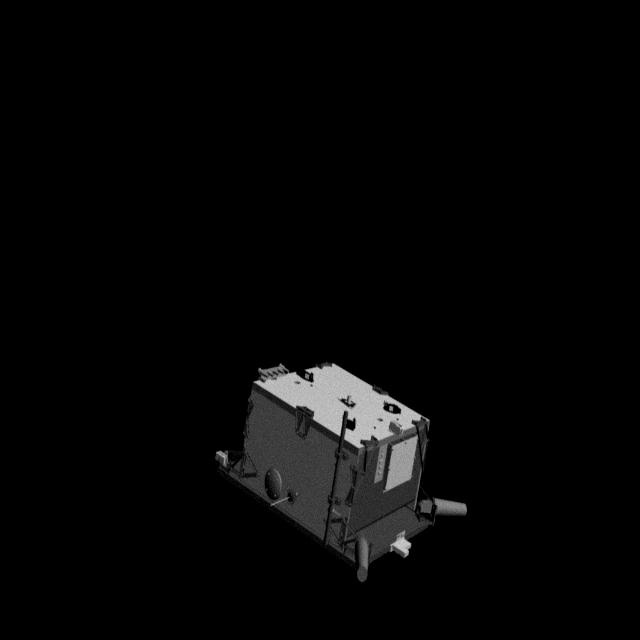medium_debris: (208, 354, 482, 590)
